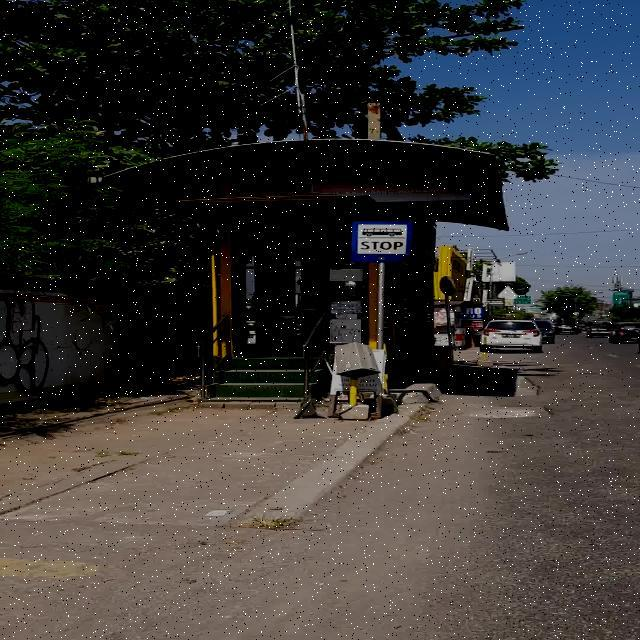Pemberhentian Bus: (352, 220, 412, 262)
